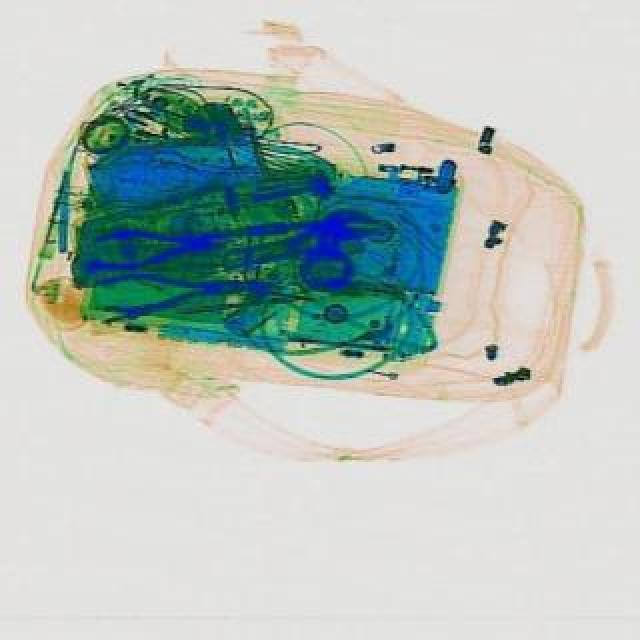scissors: (258, 206, 380, 260)
wrench: (96, 268, 262, 320), (76, 222, 228, 276)
